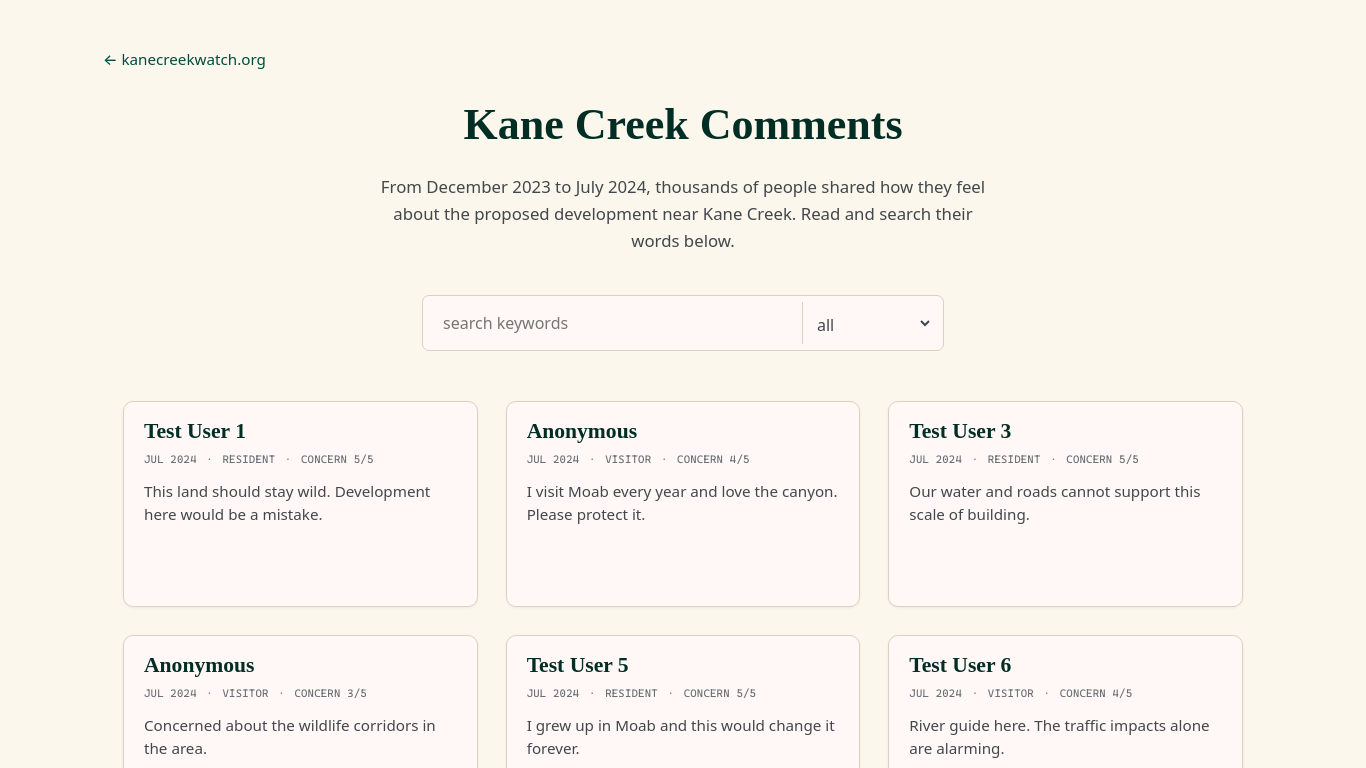
it: response details › opens the detail page for a response
Click the link with class "response-card" that starts with "Test User 1": click(301, 504) [123,401,478,607]
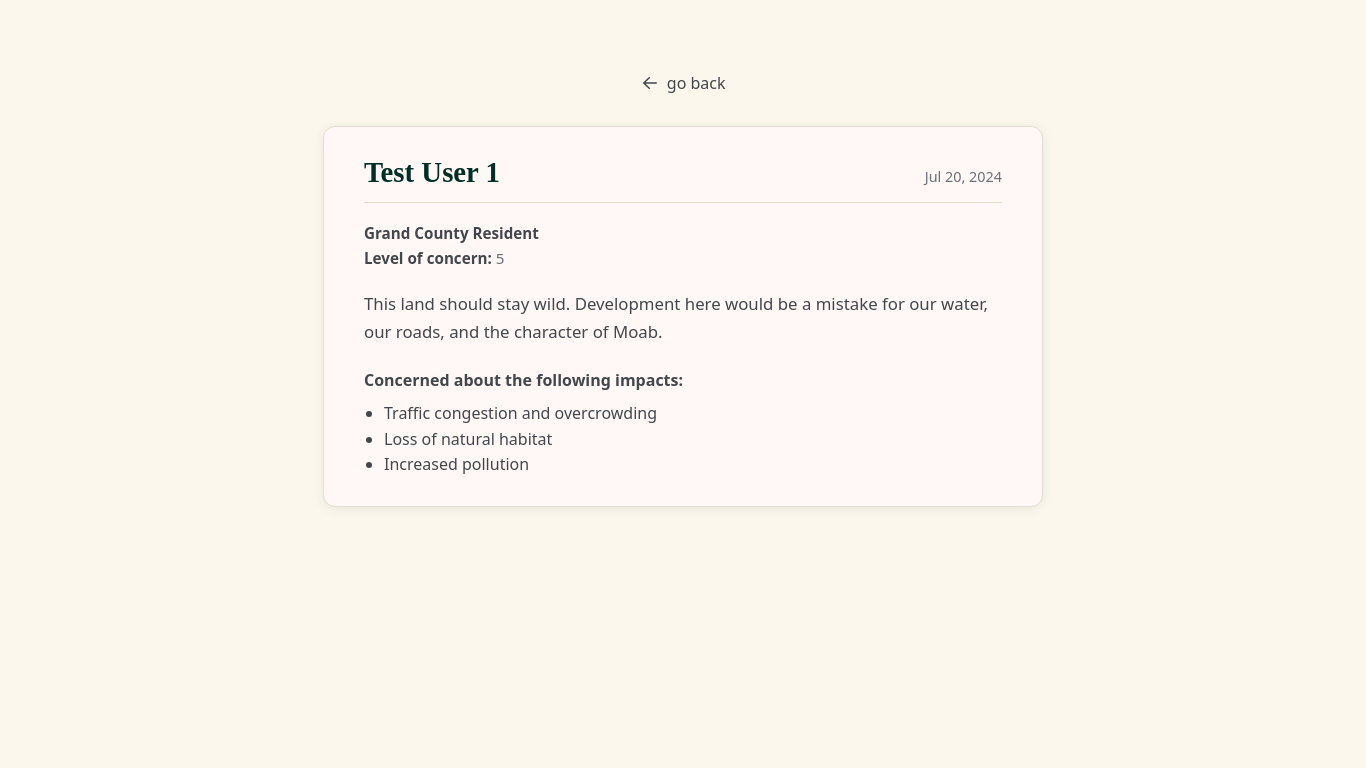
expect the heading "Test User 1" is shown: met, box [364,155,500,190]
expect the element with class "response-details" is shown: met, box [323,126,1043,507]
expect the text with class "response-comment" is shown: met, box [364,290,1002,345]
